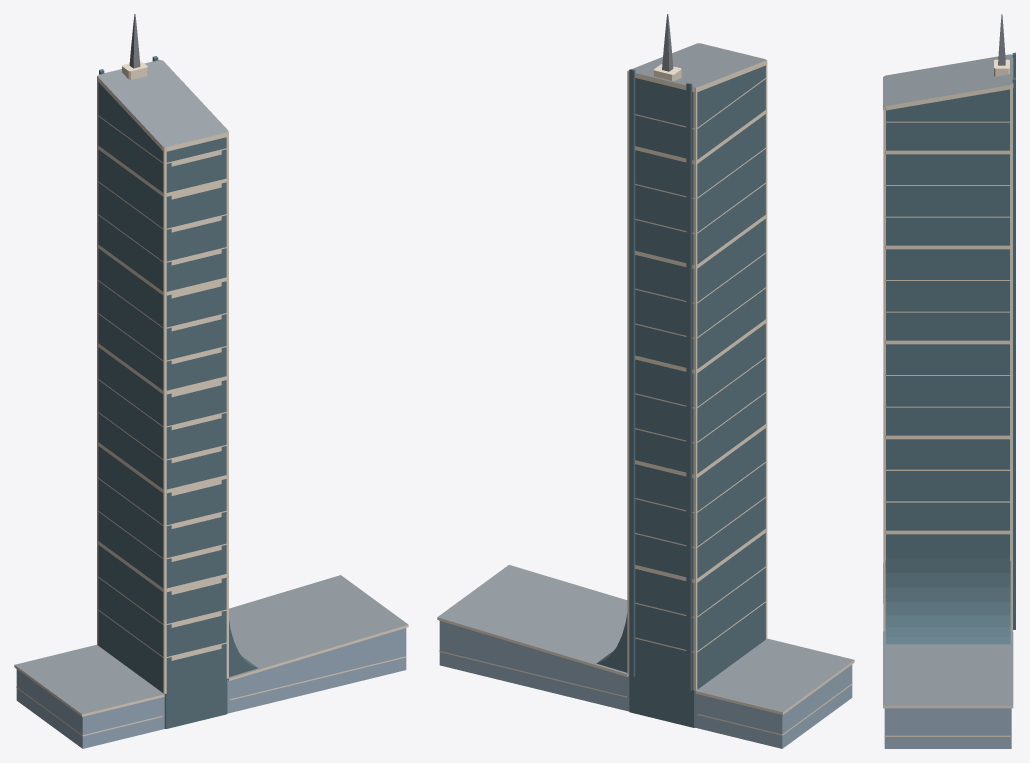
Rendered from istanbul-sapphire.glb.
3 views of the same model, side by side, from view 1: azimuth 30°, elevation 25°; view 2: azimuth 150°, elevation 25°; view 3: azimuth 270°, elevation 25° (orthographic). The views are drawn at different scales.
Visible parts, largest first — view 1: Istanbul Sapphire; view 2: Istanbul Sapphire; view 3: Istanbul Sapphire.
Part boxes in pixels (x1=…): Istanbul Sapphire: x1=14, y1=14, x2=408, y2=748; Istanbul Sapphire: x1=437, y1=14, x2=854, y2=748; Istanbul Sapphire: x1=883, y1=14, x2=1015, y2=748.
Size of the model in its own units: 135 by 261 by 49.4.
